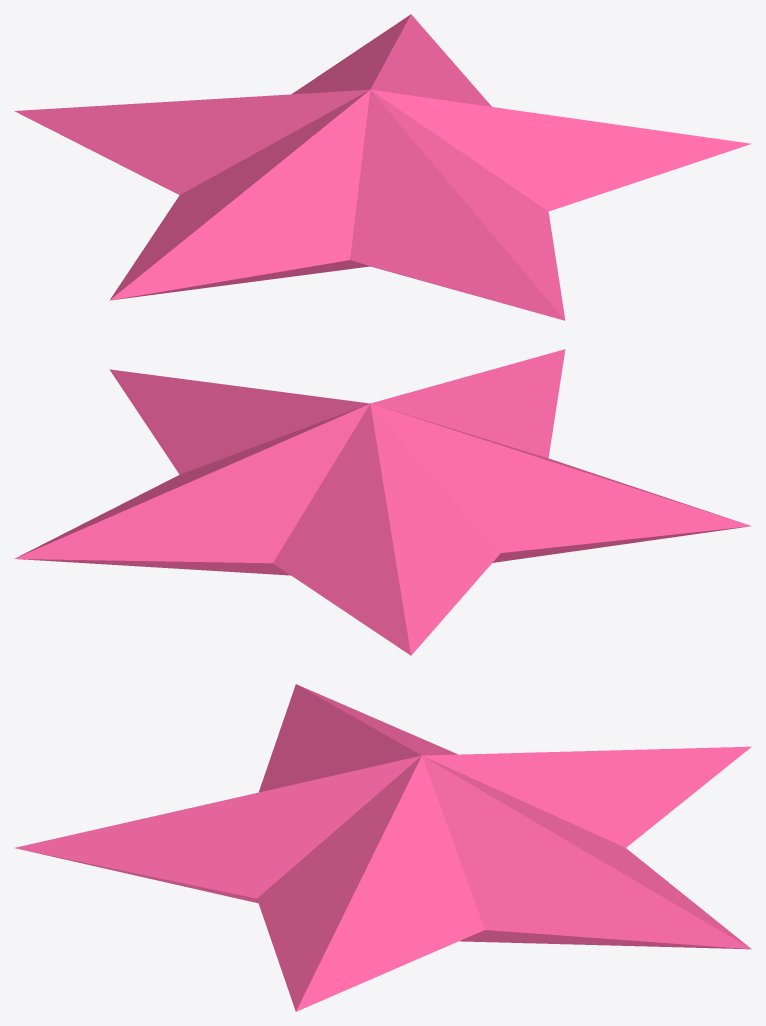
The model's file is star_pink2.glb.
3 views of the same model, one above another, from view 1: azimuth 30°, elevation 25°; view 2: azimuth 150°, elevation 25°; view 3: azimuth 270°, elevation 25° (orthographic). The views are drawn at different scales.
Visible parts, largest first — view 1: 円, 円.001; view 2: 円, 円.001; view 3: 円, 円.001.
Part boxes in pixels (x1=…): 円: x1=14, y1=14, x2=751, y2=320; 円.001: x1=112, y1=260, x2=529, y2=310; 円: x1=14, y1=349, x2=751, y2=655; 円.001: x1=17, y1=526, x2=749, y2=575; 円: x1=15, y1=684, x2=751, y2=1011; 円.001: x1=19, y1=849, x2=749, y2=949.
Size of the model in its own units: 0.3805 by 0.1 by 0.3618.
